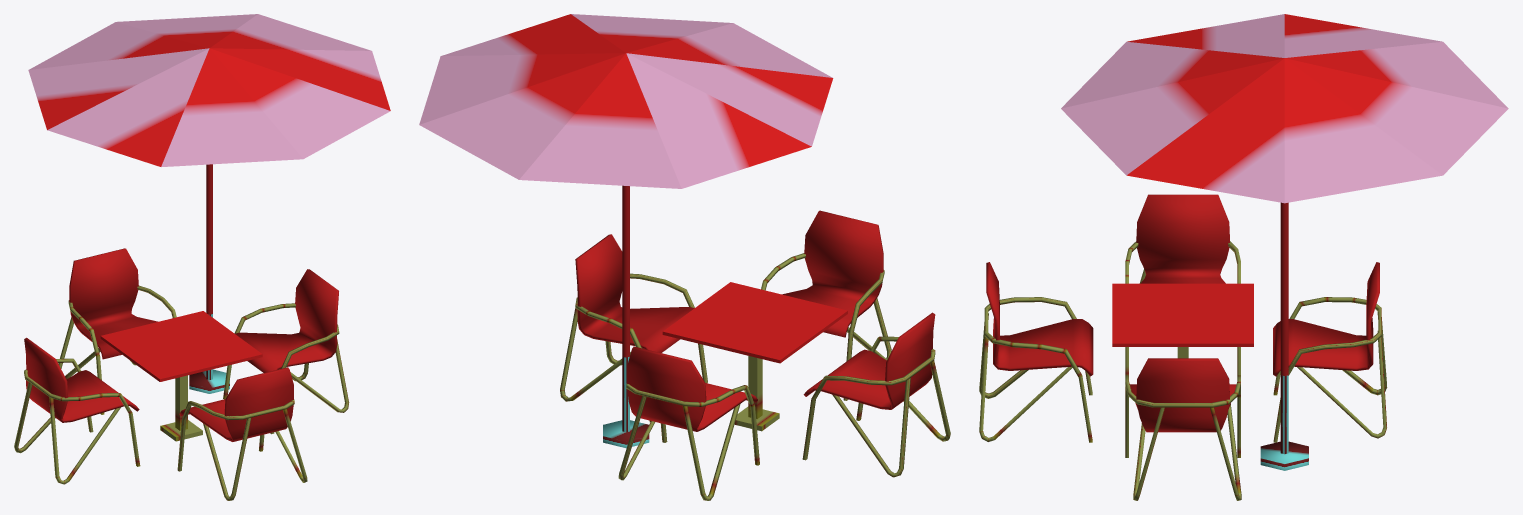
The model's file is SM_CafeSet_v01.FBX.
3 views of the same model, side by side, from view 1: azimuth 30°, elevation 25°; view 2: azimuth 150°, elevation 25°; view 3: azimuth 270°, elevation 25° (orthographic). The views are drawn at different scales.
Parts seen in each view (by area): view 1: SM_CafeSet01_000; view 2: SM_CafeSet01_000; view 3: SM_CafeSet01_000.
Boxes of the visible parts, <box> form: SM_CafeSet01_000: <box>14,14,390,500</box>; SM_CafeSet01_000: <box>419,14,950,500</box>; SM_CafeSet01_000: <box>979,14,1508,500</box>.
Size of the model in its own units: 2.81 by 2.37 by 2.84.
Materials: 1 (1 with a texture image).
